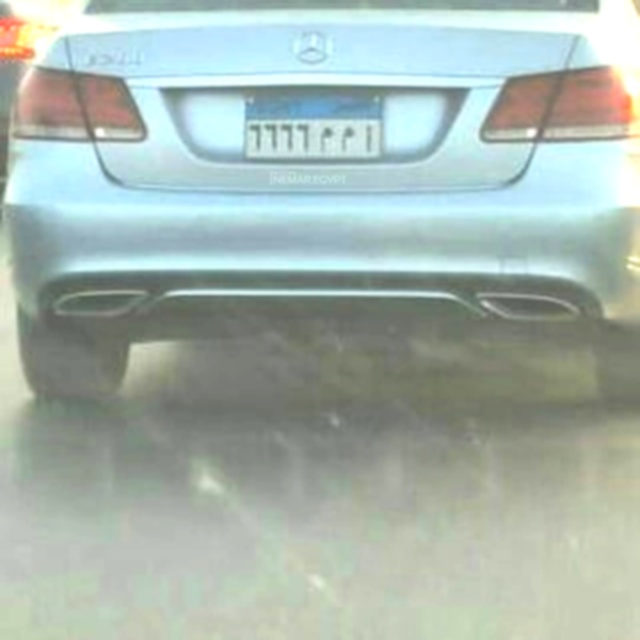License Plate: (241, 87, 386, 161)
